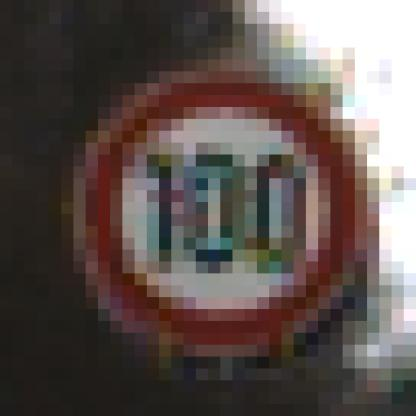Speed Limit 100: (90, 79, 354, 345)
